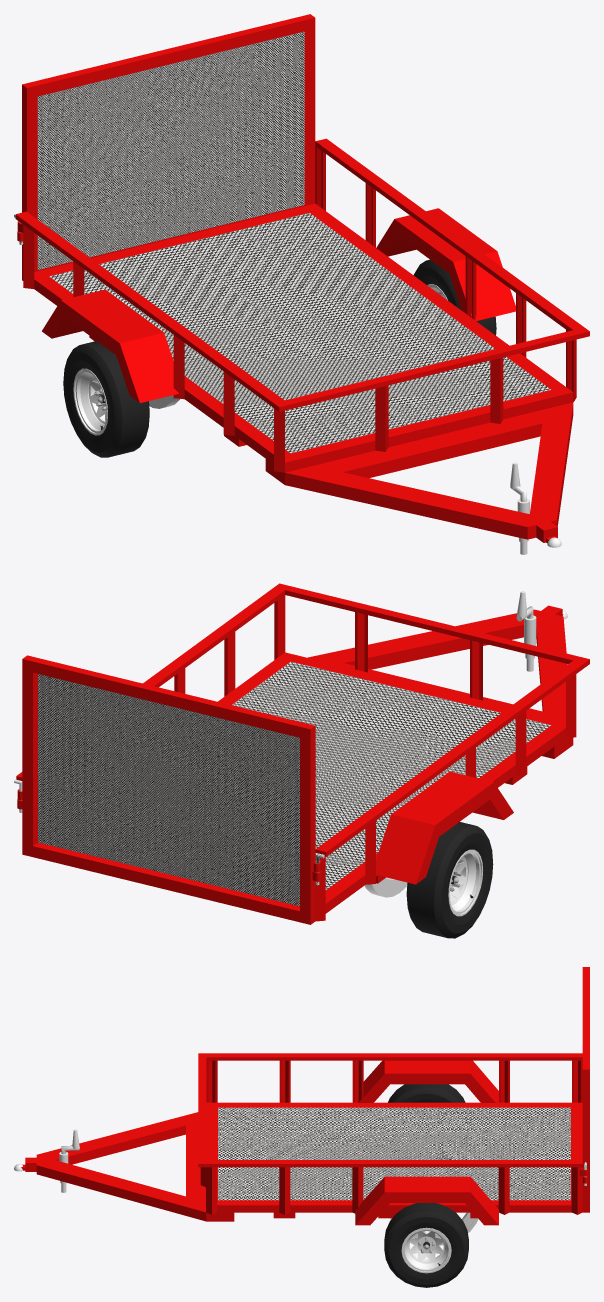
File: Small Trailer.FBX
The picture shows the model from 3 angles, top to bottom: view 1: azimuth 30°, elevation 25°; view 2: azimuth 150°, elevation 25°; view 3: azimuth 270°, elevation 25°; orthographic projection. The views are drawn at different scales.
Visible parts, largest first — view 1: Trailer, Door, Wheel_R, Wheel_L; view 2: Trailer, Door, Wheel_R; view 3: Trailer, Wheel_L, Door, Wheel_R.
Part boxes in pixels (x1=…): Trailer: x1=14, y1=138, x2=589, y2=554; Door: x1=22, y1=14, x2=315, y2=280; Wheel_R: x1=63, y1=341, x2=149, y2=457; Wheel_L: x1=413, y1=259, x2=496, y2=335; Trailer: x1=14, y1=583, x2=589, y2=921; Door: x1=22, y1=655, x2=315, y2=924; Wheel_R: x1=406, y1=822, x2=493, y2=938; Trailer: x1=14, y1=1053, x2=588, y2=1245; Wheel_L: x1=384, y1=1203, x2=468, y2=1287; Door: x1=582, y1=967, x2=589, y2=1212; Wheel_R: x1=388, y1=1084, x2=465, y2=1102.
Bounding box in the file's own units: 347 × 241 × 621.
7 materials, 1 textured.
